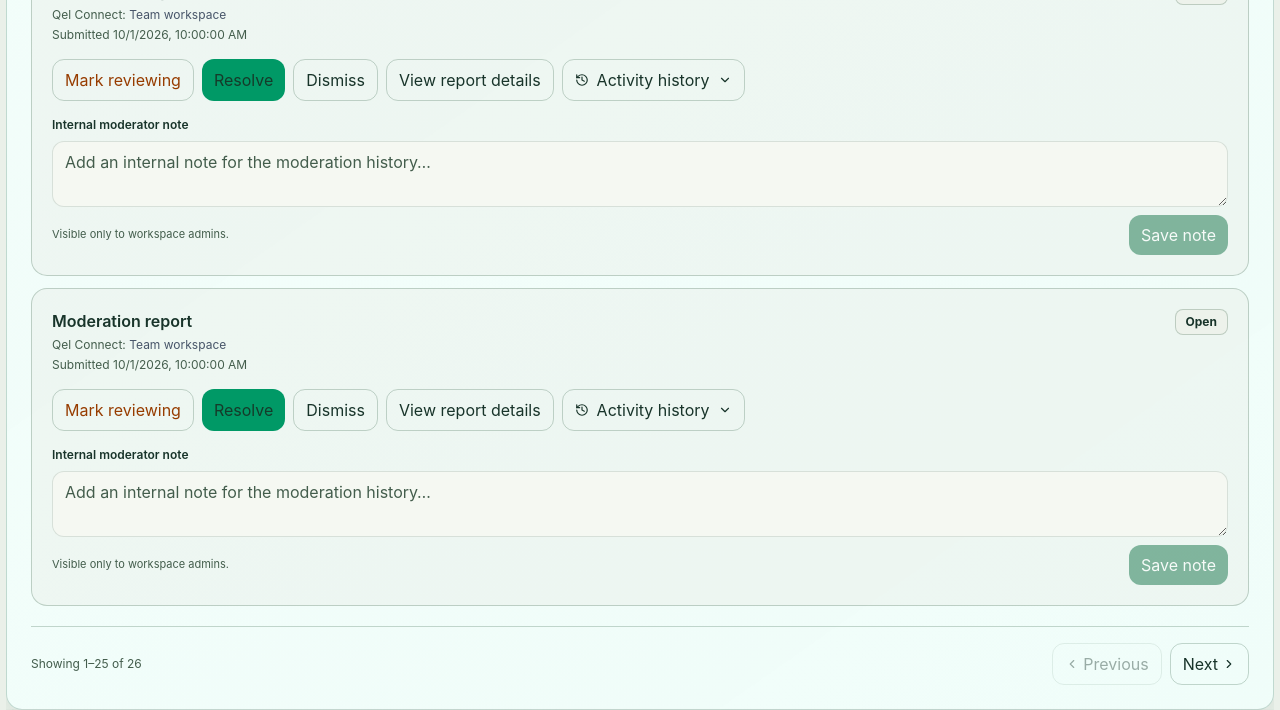
Test: collection moderation page › paginates without hiding older reports
This screenshot has width=1280, height=710.
(page scrolled)
expect the text "Showing 1–25 of 26" is shown: met, box [31,656,142,672]
Step 1. Click the button "Next" → click(1209, 664), box [1170,642,1249,684]
(page scrolled)
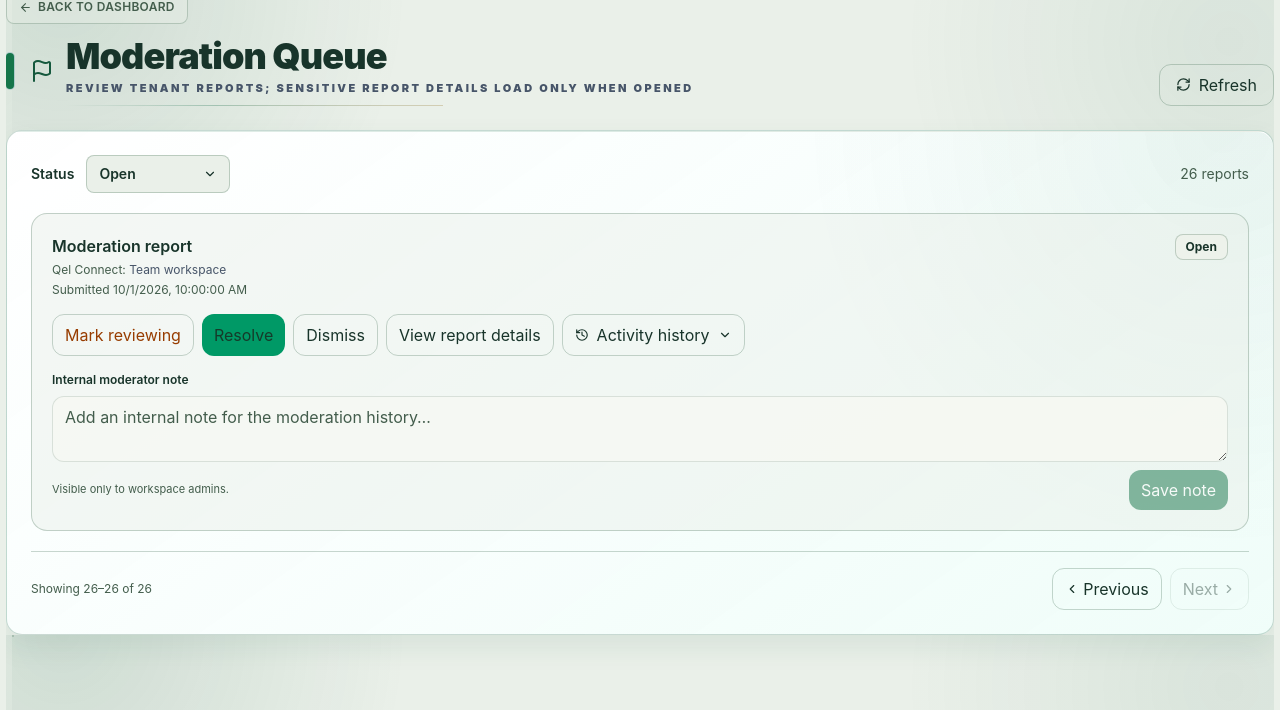
expect the text "Showing 26–26 of 26" is shown: met, box [31,580,152,596]
